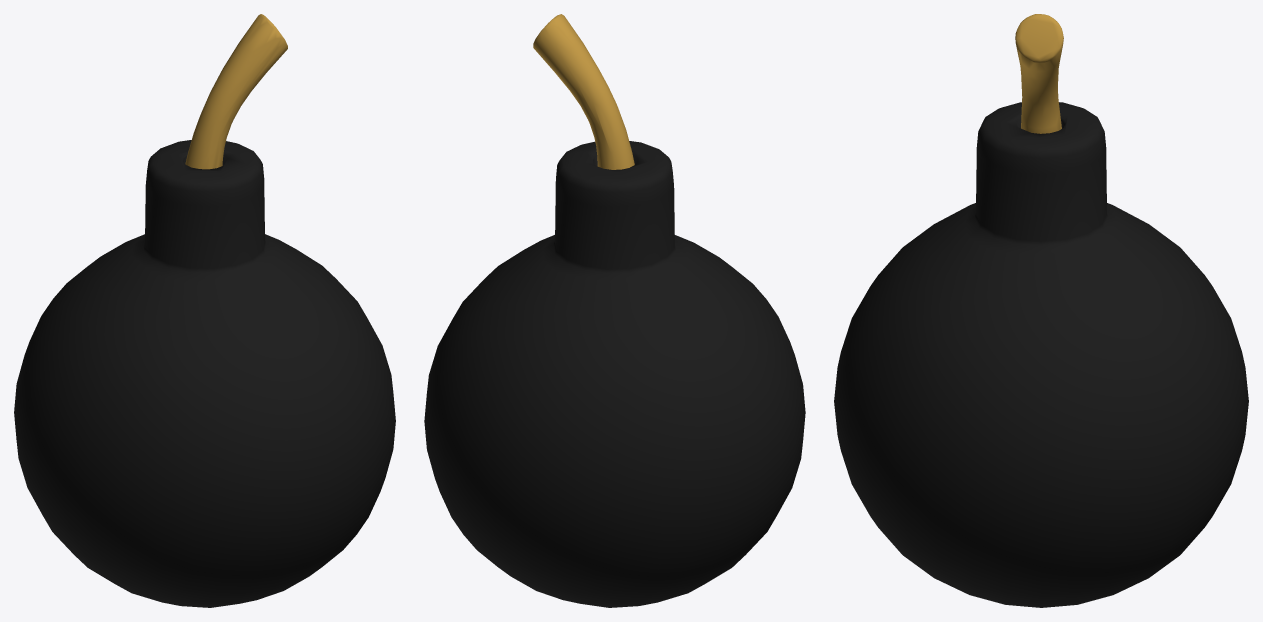
The model's file is Bomb.fbx.
The picture shows the model from 3 angles, left to right: view 1: azimuth 30°, elevation 25°; view 2: azimuth 150°, elevation 25°; view 3: azimuth 270°, elevation 25°; orthographic projection. The views are drawn at different scales.
Parts seen in each view (by area): view 1: Bomb.001; view 2: Bomb.001; view 3: Bomb.001.
Part boxes in pixels (x1,y1,x2,y2): Bomb.001: (14,14,395,607); Bomb.001: (424,14,805,607); Bomb.001: (834,14,1248,607).
Size of the model in its own units: 44.25 by 71.36 by 44.25.
